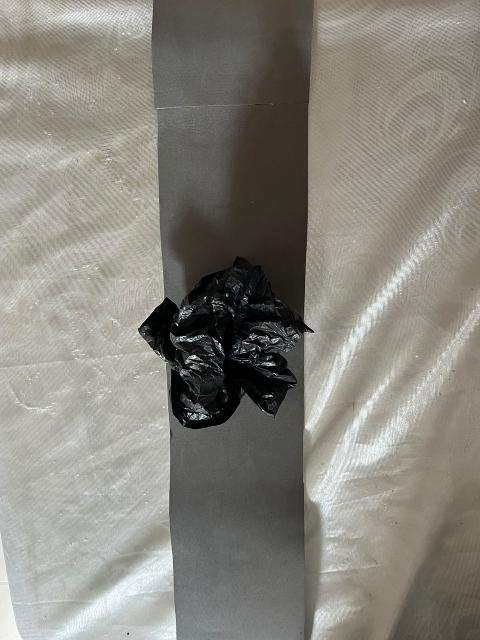LDPE: (124, 236, 352, 451)
